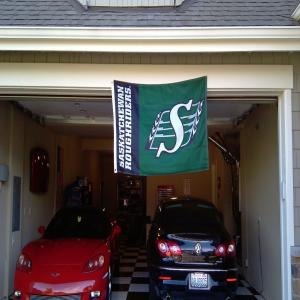Vehicle-registration-plate: (192, 273, 209, 290)
